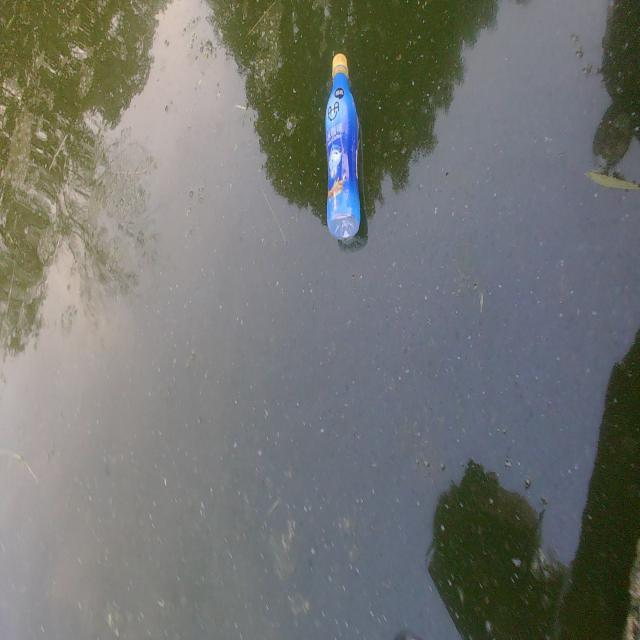garbage: (324, 52, 362, 243)
